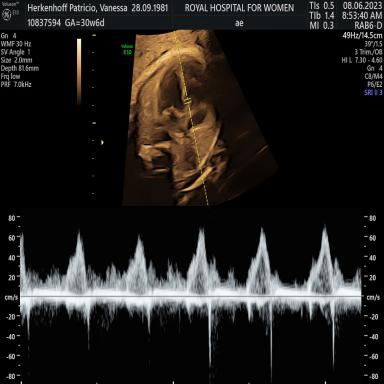Ultrasound-Waves: (27, 213, 359, 384)
